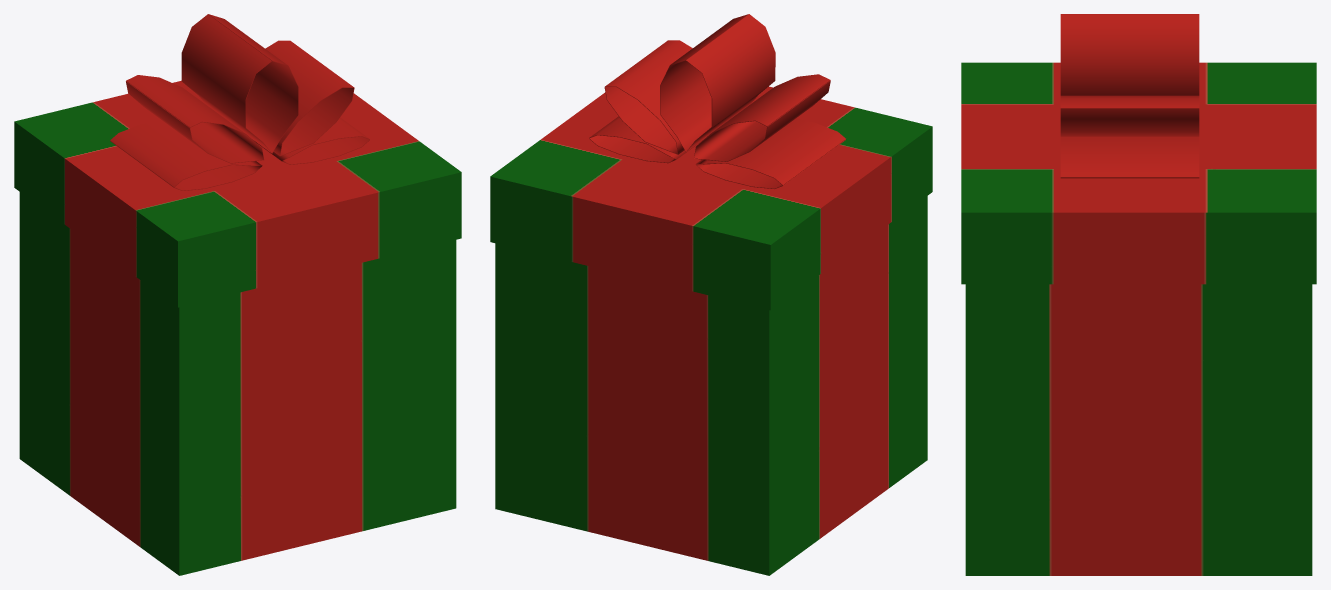
The model's file is present_plain_ver5.fbx.
3 renders of one model, left to right at view 1: azimuth 30°, elevation 25°; view 2: azimuth 150°, elevation 25°; view 3: azimuth 270°, elevation 25°, orthographic. The views are drawn at different scales.
Visible parts, largest first — view 1: Box, Top; view 2: Box, Top; view 3: Box, Top.
Part boxes in pixels (box(x1,y1,x2,y2)): Box: box(19, 192, 456, 575); Top: box(14, 14, 461, 307); Box: box(495, 196, 927, 575); Top: box(490, 14, 932, 310); Box: box(965, 284, 1312, 575); Top: box(961, 14, 1316, 284).
Bounding box in the file's own units: 10.24 × 15.52 × 10.24.
